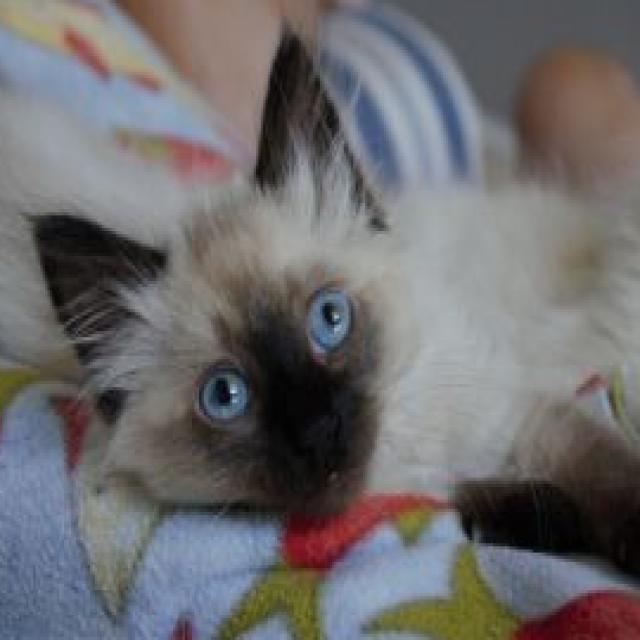Ragdoll: (0, 12, 640, 600)
